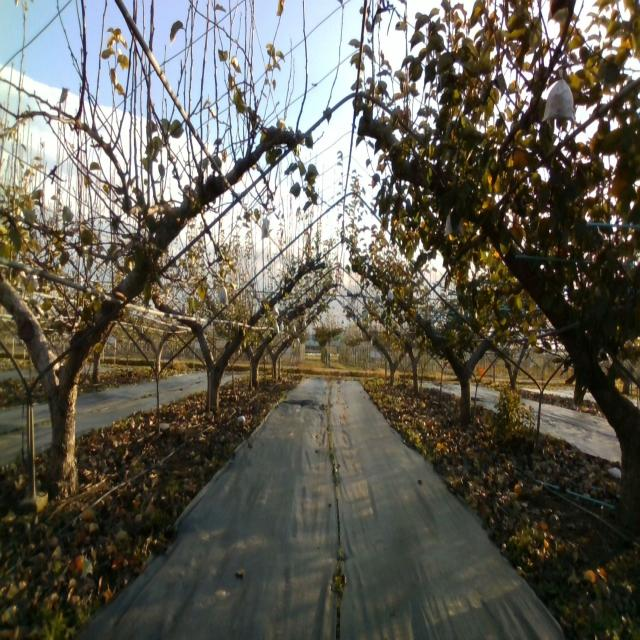pearbags: (541, 67, 577, 124), (216, 281, 228, 306)
